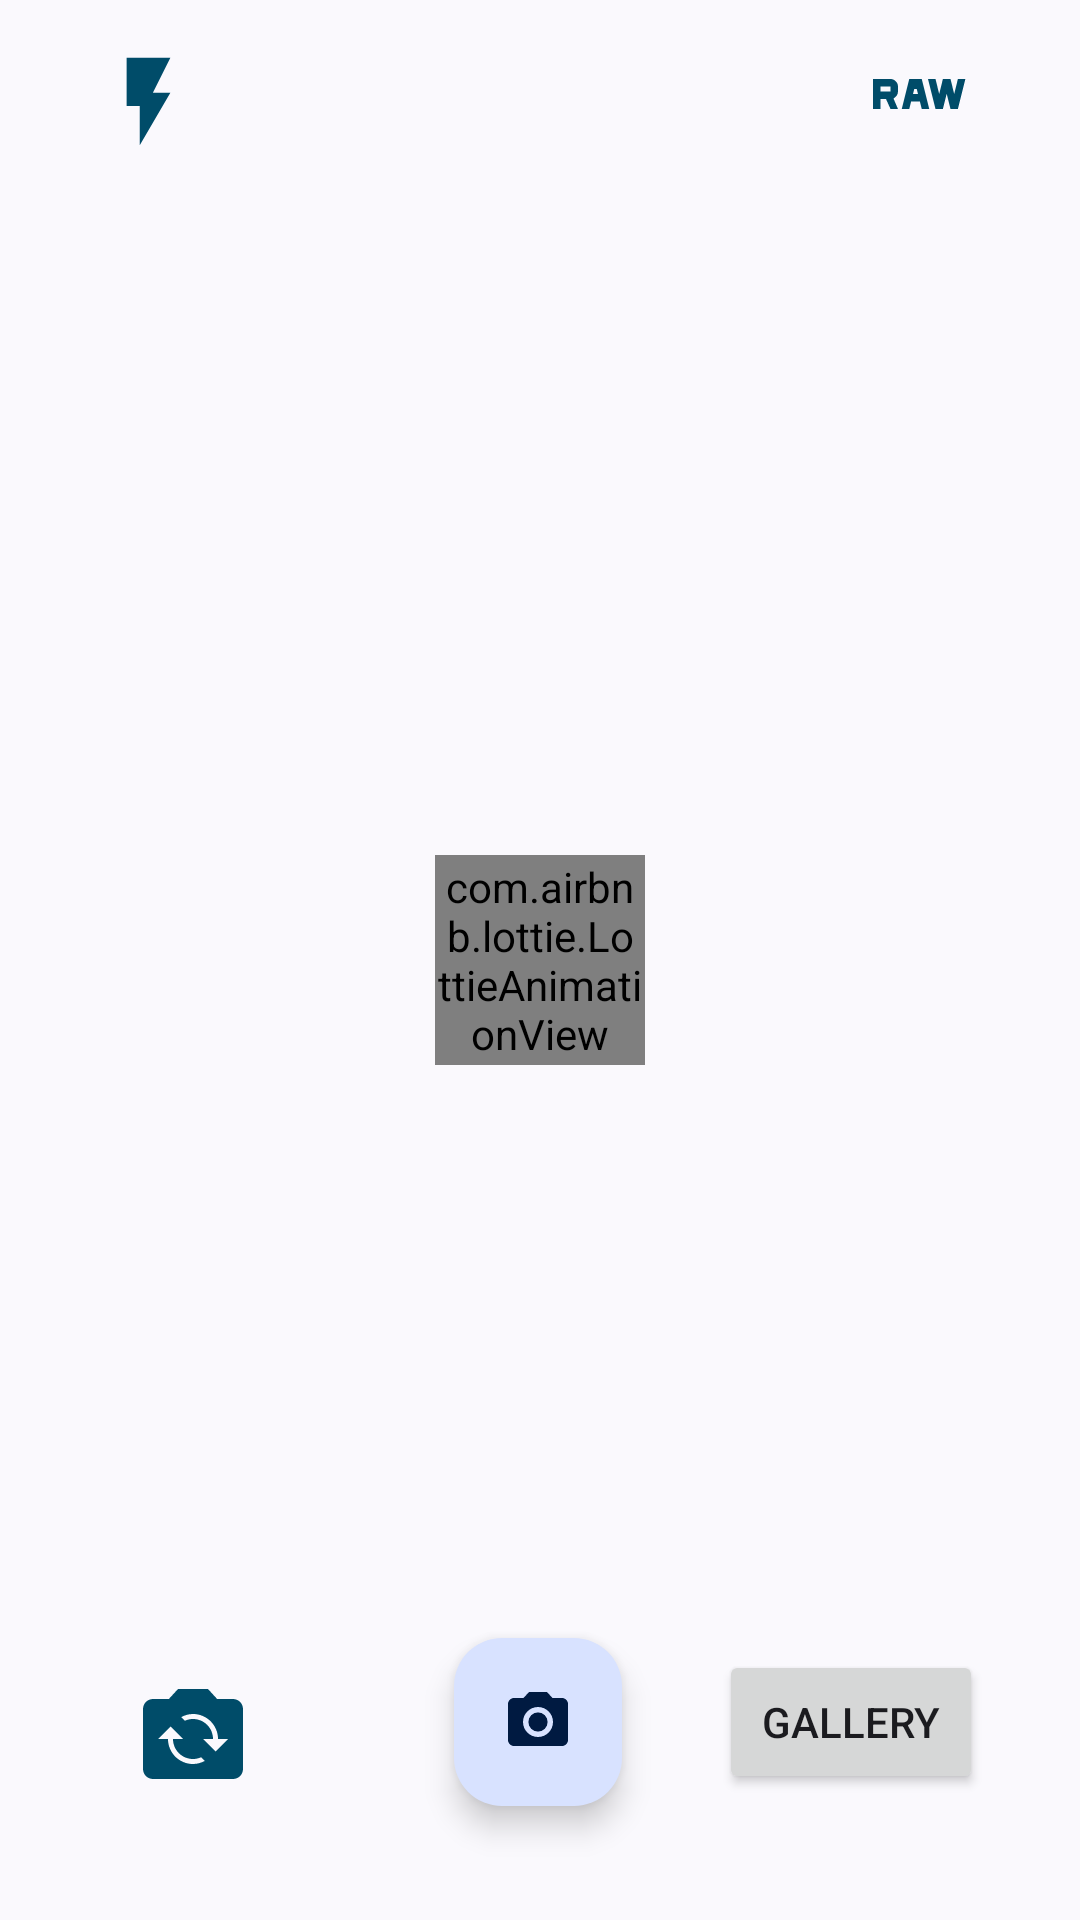

Screen size 1080px×1920px. Icon name, then its box in pixels as bbox=(x1, y1, x2, y2):
camflip: bbox=(143, 1689, 243, 1779)
flash on: bbox=(126, 57, 170, 145)
photo camera: bbox=(454, 1638, 622, 1806)
